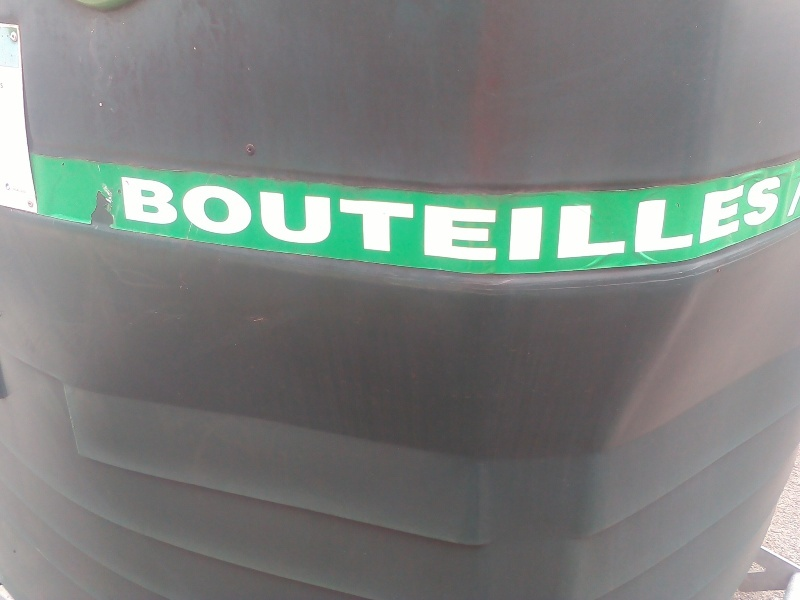text: (769, 174, 785, 267), (129, 174, 144, 267), (145, 174, 160, 267), (161, 174, 176, 267), (177, 174, 192, 267), (193, 174, 208, 267), (209, 174, 224, 267), (225, 174, 240, 267), (241, 174, 256, 267), (257, 174, 272, 267), (273, 174, 288, 267), (289, 174, 304, 267), (305, 174, 320, 267), (321, 174, 336, 267), (337, 174, 352, 267), (353, 174, 368, 267), (369, 174, 384, 267), (385, 174, 400, 267), (401, 174, 416, 267), (417, 174, 432, 267), (433, 174, 448, 267), (449, 174, 464, 267), (465, 174, 480, 267), (481, 174, 496, 267), (497, 174, 512, 267), (513, 174, 528, 267), (529, 174, 544, 267), (545, 174, 560, 267), (561, 174, 576, 267), (577, 174, 592, 267), (593, 174, 608, 267), (609, 174, 624, 267), (625, 174, 640, 267), (641, 174, 656, 267), (657, 174, 672, 267), (673, 174, 688, 267), (689, 174, 704, 267), (705, 174, 720, 267), (721, 174, 736, 267), (737, 174, 752, 267), (753, 174, 768, 267), (118, 174, 128, 267)
